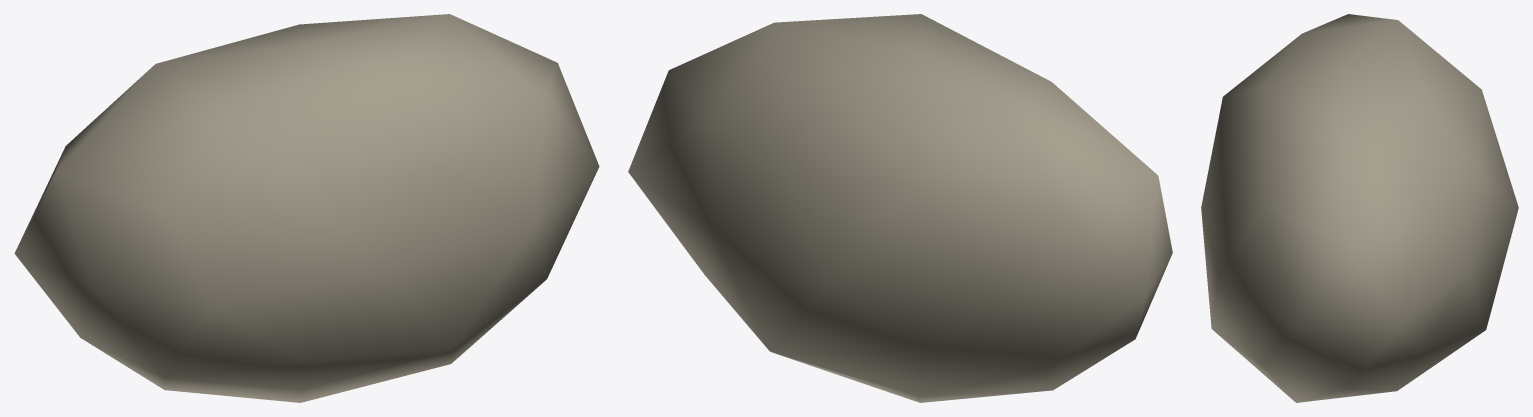
Rendered from SM_Env_Rock_03.fbx.
3 views of the same model, side by side, from view 1: azimuth 30°, elevation 25°; view 2: azimuth 150°, elevation 25°; view 3: azimuth 270°, elevation 25° (orthographic). The views are drawn at different scales.
Parts seen in each view (by area): view 1: Rock.002; view 2: Rock.002; view 3: Rock.002.
Part boxes in pixels (x1,y1,x2,y2): Rock.002: (14, 14, 599, 402); Rock.002: (628, 14, 1172, 402); Rock.002: (1201, 14, 1518, 402).
Size of what is drawn, in the model's own units: 103 by 60.69 by 66.78.
